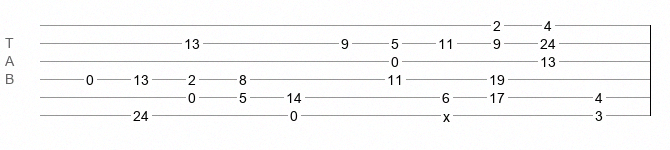0: (86, 72, 94, 82), (188, 90, 196, 100), (290, 108, 298, 118), (391, 54, 399, 64)
11: (387, 72, 403, 82), (438, 36, 454, 46)
13: (133, 72, 149, 82), (184, 36, 200, 46), (540, 54, 556, 64)
14: (286, 90, 302, 100)
17: (489, 90, 505, 100)
19: (489, 72, 505, 82)
2: (188, 72, 196, 82), (493, 18, 501, 28)
24: (133, 108, 149, 118), (540, 36, 556, 46)
3: (595, 108, 603, 118)
4: (544, 18, 552, 28), (595, 90, 603, 100)
5: (239, 90, 247, 100), (391, 36, 399, 46)
6: (442, 90, 450, 100)
8: (239, 72, 247, 82)
9: (341, 36, 349, 46), (493, 36, 501, 46)
x: (443, 109, 450, 117)
